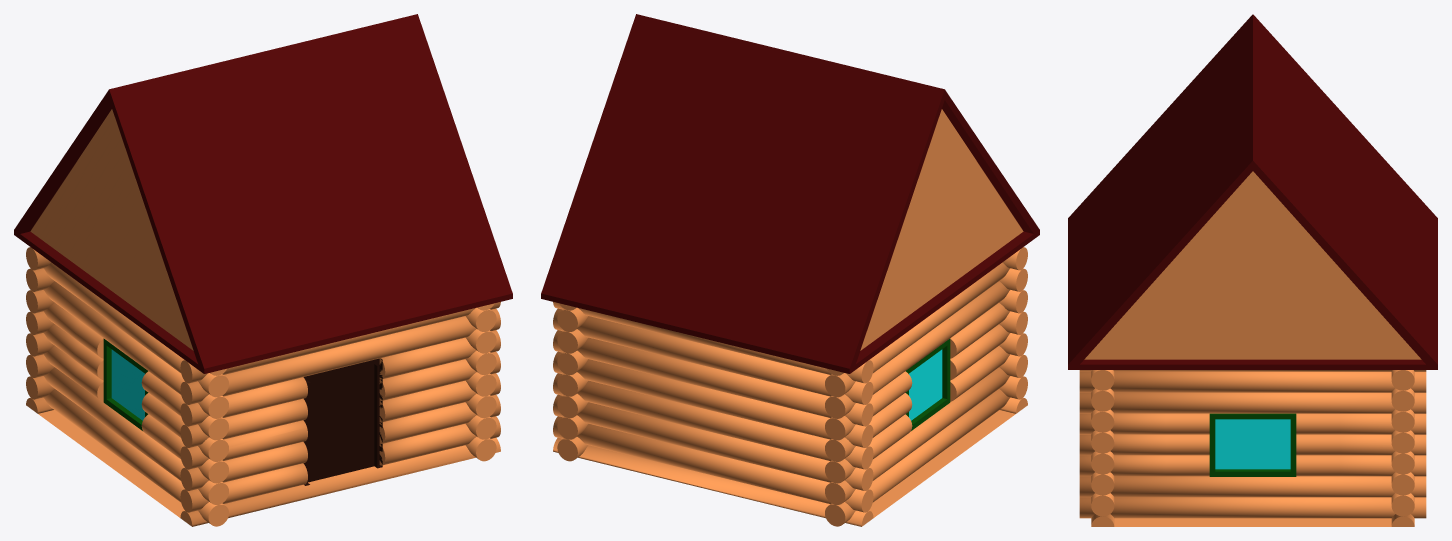
The picture shows the model from 3 angles, left to right: view 1: azimuth 30°, elevation 25°; view 2: azimuth 150°, elevation 25°; view 3: azimuth 270°, elevation 25°; orthographic projection. The views are drawn at different scales.
Parts seen in each view (by area): view 1: Куб.007_Куб.000_Куб.007_Куб.052, Куб.007_Куб.049, Куб.007_Куб.001_Куб.007_Куб.053, Куб.007_Куб.050_Куб.007_Куб.102, Куб.007_Куб.045_Куб.007_Куб.098, Куб.007_Куб.009_Куб.007_Куб.062, Куб.007_Куб.008_Куб.007_Куб.061, Куб.007_Куб.015_Куб.007_Куб.068, Куб.007_Куб.016_Куб.007_Куб.069, Куб.007_Куб.048_Куб.007_Куб.101, Куб.007_Куб.023_Куб.007_Куб.076, Куб.007_Куб.020_Куб.007_Куб.073 (+17 smaller); view 2: Куб.007_Куб.000_Куб.007_Куб.052, Куб.007_Куб.049, Куб.007_Куб.031_Куб.007_Куб.084, Куб.007_Куб.032_Куб.007_Куб.085, Куб.007_Куб.030_Куб.007_Куб.083, Куб.007_Куб.034_Куб.007_Куб.087, Куб.007_Куб.029_Куб.007_Куб.082, Куб.007_Куб.033_Куб.007_Куб.086, Куб.007_Куб.047_Куб.007_Куб.100, Куб.007_Куб.009_Куб.007_Куб.062, Куб.007_Куб.008_Куб.007_Куб.061, Куб.007_Куб.015_Куб.007_Куб.068 (+11 smaller); view 3: Куб.007_Куб.000_Куб.007_Куб.052, Куб.007_Куб.051_Куб.007_Куб.103, Куб.007_Куб.043_Куб.007_Куб.096, Куб.007_Куб.044_Куб.007_Куб.097, Куб.007_Куб.035_Куб.007_Куб.088, Куб.007_Куб.036_Куб.007_Куб.089, Куб.007_Куб.004_Куб.007_Куб.056, Куб.007_Куб.048_Куб.007_Куб.101, Куб.007_Куб.041_Куб.007_Куб.094, Куб.007_Куб.042_Куб.007_Куб.095, Куб.007_Куб.037_Куб.007_Куб.090, Куб.007_Куб.038_Куб.007_Куб.091 (+18 smaller).
Part boxes in pixels (bbox=[...]): Куб.007_Куб.000_Куб.007_Куб.052: bbox=[14, 14, 512, 373]; Куб.007_Куб.049: bbox=[30, 109, 193, 350]; Куб.007_Куб.001_Куб.007_Куб.053: bbox=[303, 358, 382, 485]; Куб.007_Куб.050_Куб.007_Куб.102: bbox=[180, 308, 500, 404]; Куб.007_Куб.045_Куб.007_Куб.098: bbox=[180, 438, 500, 526]; Куб.007_Куб.009_Куб.007_Куб.062: bbox=[44, 367, 228, 504]; Куб.007_Куб.008_Куб.007_Куб.061: bbox=[43, 389, 228, 526]; Куб.007_Куб.015_Куб.007_Куб.068: bbox=[44, 281, 228, 418]; Куб.007_Куб.016_Куб.007_Куб.069: bbox=[43, 262, 228, 397]; Куб.007_Куб.048_Куб.007_Куб.101: bbox=[38, 410, 184, 517]; Куб.007_Куб.023_Куб.007_Куб.076: bbox=[180, 398, 307, 447]; Куб.007_Куб.020_Куб.007_Куб.073: bbox=[180, 442, 307, 490]; Куб.007_Куб.000_Куб.007_Куб.052: bbox=[541, 14, 1039, 373]; Куб.007_Куб.049: bbox=[860, 109, 1023, 350]; Куб.007_Куб.031_Куб.007_Куб.084: bbox=[553, 351, 873, 447]; Куб.007_Куб.032_Куб.007_Куб.085: bbox=[553, 373, 873, 469]; Куб.007_Куб.030_Куб.007_Куб.083: bbox=[553, 330, 873, 426]; Куб.007_Куб.034_Куб.007_Куб.087: bbox=[553, 416, 873, 512]; Куб.007_Куб.029_Куб.007_Куб.082: bbox=[553, 308, 873, 404]; Куб.007_Куб.033_Куб.007_Куб.086: bbox=[553, 394, 873, 490]; Куб.007_Куб.047_Куб.007_Куб.100: bbox=[553, 438, 873, 526]; Куб.007_Куб.009_Куб.007_Куб.062: bbox=[825, 367, 1009, 504]; Куб.007_Куб.008_Куб.007_Куб.061: bbox=[825, 389, 1010, 526]; Куб.007_Куб.015_Куб.007_Куб.068: bbox=[825, 281, 1009, 418]; Куб.007_Куб.000_Куб.007_Куб.052: bbox=[1068, 14, 1437, 369]; Куб.007_Куб.051_Куб.007_Куб.103: bbox=[1084, 171, 1421, 359]; Куб.007_Куб.043_Куб.007_Куб.096: bbox=[1079, 392, 1426, 413]; Куб.007_Куб.044_Куб.007_Куб.097: bbox=[1079, 371, 1426, 392]; Куб.007_Куб.035_Куб.007_Куб.088: bbox=[1079, 497, 1426, 518]; Куб.007_Куб.036_Куб.007_Куб.089: bbox=[1079, 476, 1426, 497]; Куб.007_Куб.004_Куб.007_Куб.056: bbox=[1215, 419, 1290, 469]; Куб.007_Куб.048_Куб.007_Куб.101: bbox=[1114, 518, 1391, 526]; Куб.007_Куб.041_Куб.007_Куб.094: bbox=[1296, 413, 1426, 434]; Куб.007_Куб.042_Куб.007_Куб.095: bbox=[1079, 413, 1209, 434]; Куб.007_Куб.037_Куб.007_Куб.090: bbox=[1296, 455, 1426, 476]; Куб.007_Куб.038_Куб.007_Куб.091: bbox=[1079, 455, 1209, 476].
Size of the model in its own units: 6 by 7 by 6.4.
